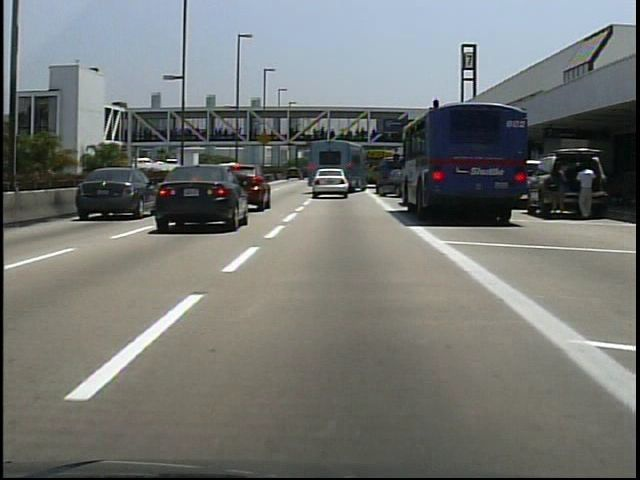person: (572, 161, 598, 225), (542, 159, 568, 223)
